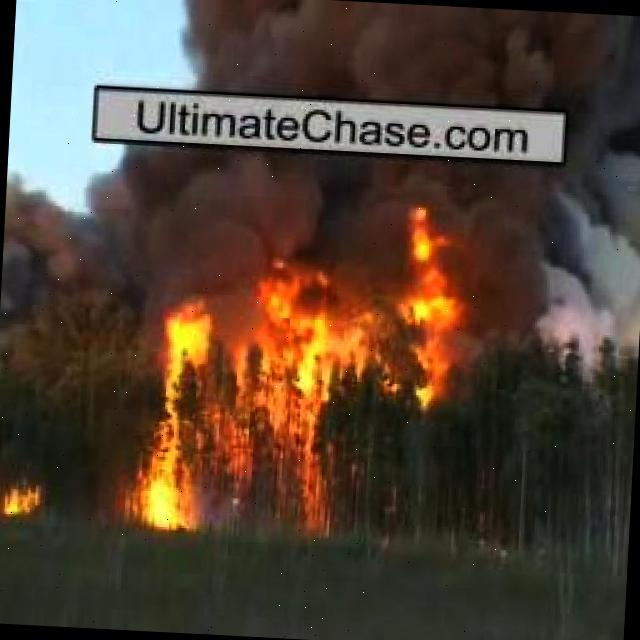fire: (130, 273, 348, 526), (388, 196, 481, 406), (0, 486, 63, 522)
